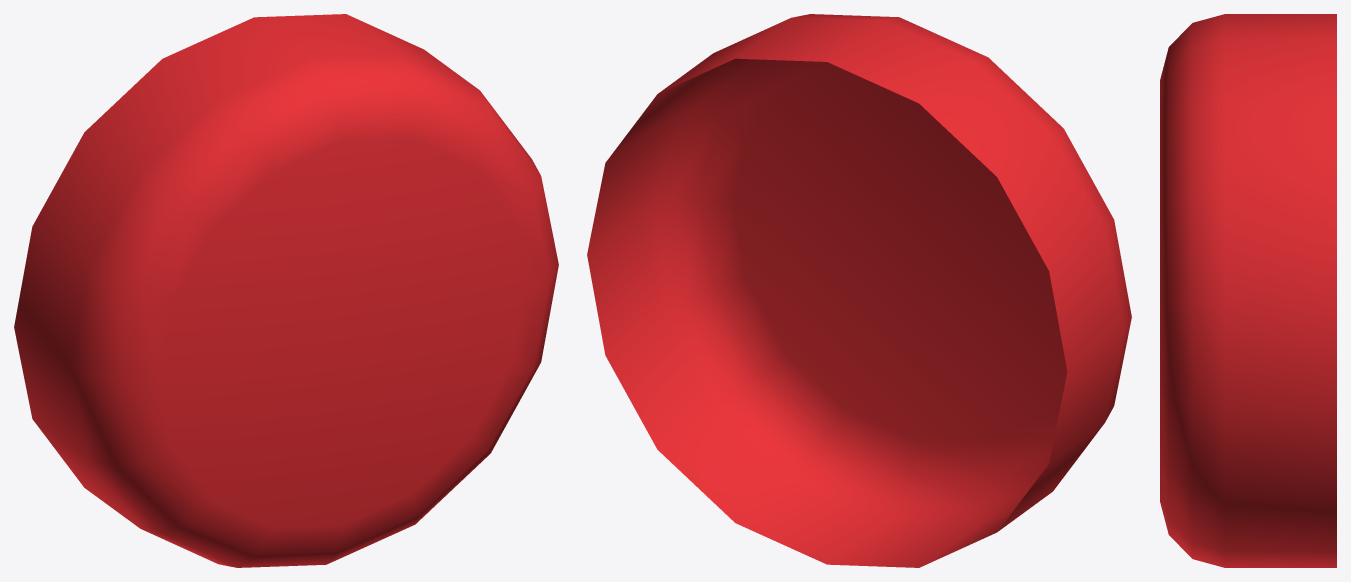
File: red_button.glb
3 views of the same model, side by side, from view 1: azimuth 30°, elevation 25°; view 2: azimuth 150°, elevation 25°; view 3: azimuth 270°, elevation 25° (orthographic).
Visible parts, largest first — view 1: Button; view 2: Button; view 3: Button.
Boxes of the visible parts, <box> form: Button: <box>14,14,558,567</box>; Button: <box>587,14,1131,567</box>; Button: <box>1160,14,1336,567</box>.
Size of the model in its own units: 0.0547 by 0.0547 by 0.0175.
